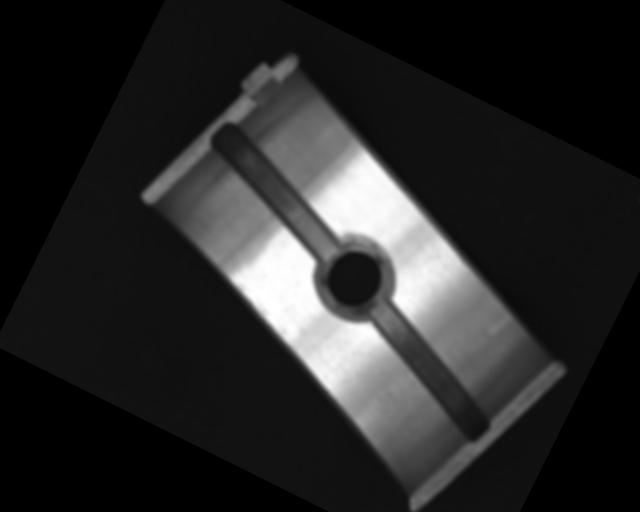gap: (336, 295, 520, 446), (186, 120, 364, 265)
hole: (306, 229, 403, 328)
